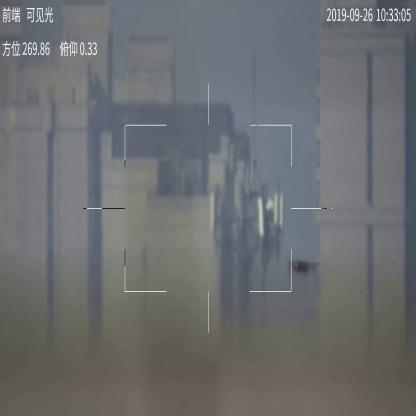uav: (282, 256, 320, 278)
